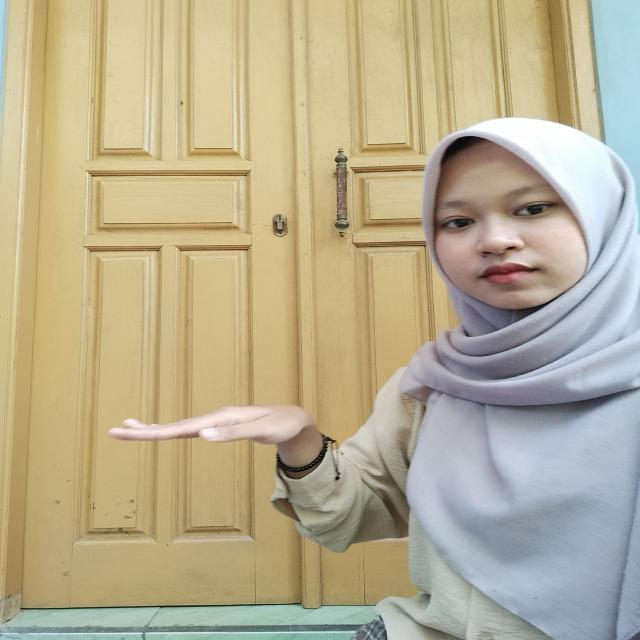adik: (94, 392, 347, 479)
